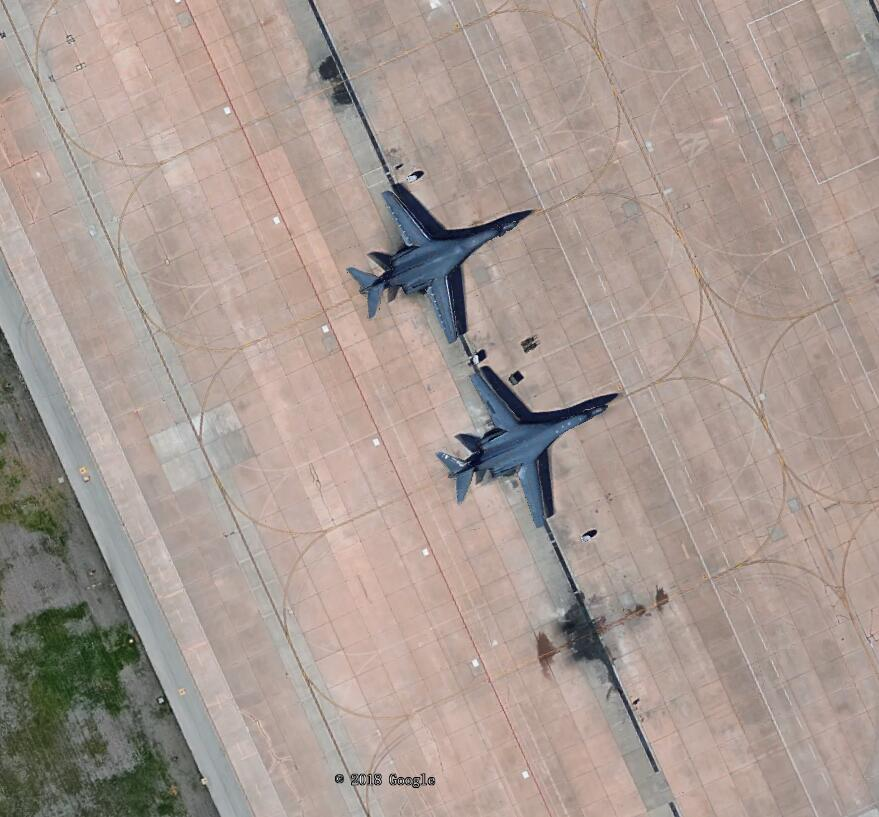A10: (348, 183, 538, 344), (437, 363, 624, 526)
